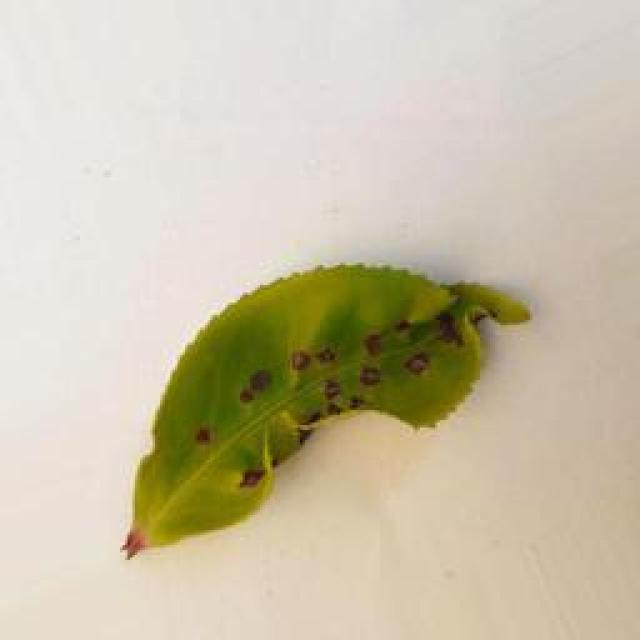Helopeltis: (110, 249, 544, 570)
